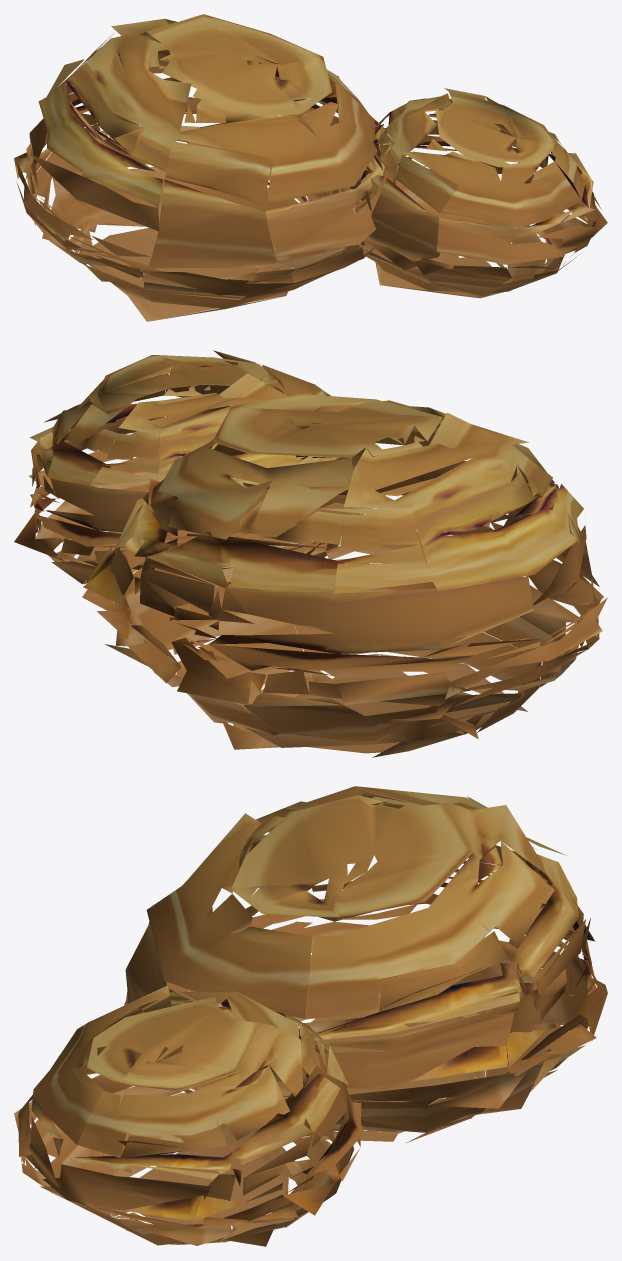
The model's file is desert_boulder_pair_lod1.glb.
3 renders of one model, top to bottom at view 1: azimuth 30°, elevation 25°; view 2: azimuth 150°, elevation 25°; view 3: azimuth 270°, elevation 25°, orthographic. The views are drawn at different scales.
Parts seen in each view (by area): view 1: desert_boulder_pair.001; view 2: desert_boulder_pair.001; view 3: desert_boulder_pair.001.
Part boxes in pixels (box(x1,y1,x2,y2)): desert_boulder_pair.001: box(14, 14, 607, 321); desert_boulder_pair.001: box(14, 350, 607, 757); desert_boulder_pair.001: box(14, 786, 607, 1246).
Bounding box in the file's own units: 2.08 × 0.9419 × 1.77.
1 material, 1 textured.
